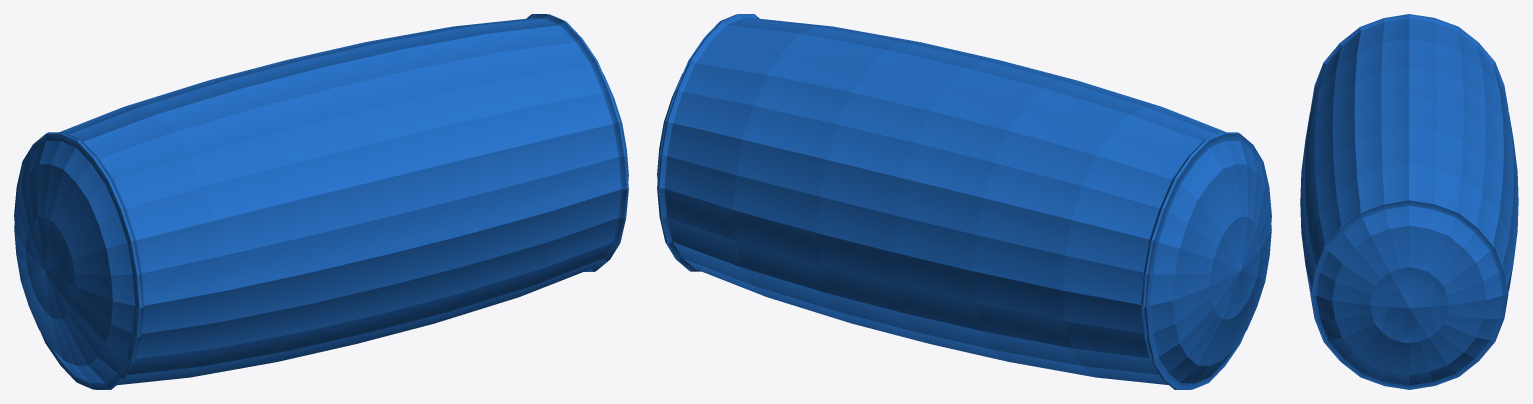
Rendered from MeshPillow_7_0.obj.
3 renders of one model, left to right at view 1: azimuth 30°, elevation 25°; view 2: azimuth 150°, elevation 25°; view 3: azimuth 270°, elevation 25°, orthographic. The views are drawn at different scales.
Visible parts, largest first — view 1: Pillow_7; view 2: Pillow_7; view 3: Pillow_7.
Part boxes in pixels (bbox=[...]): Pillow_7: bbox=[14, 14, 628, 389]; Pillow_7: bbox=[657, 14, 1271, 389]; Pillow_7: bbox=[1300, 14, 1518, 389].
Size of the model in its own units: 0.5563 by 0.2584 by 0.2431.
